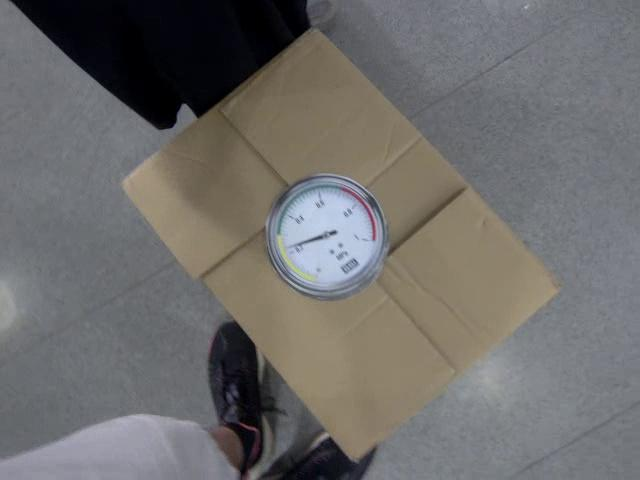Dashboard: (267, 171, 388, 305)
ssi: (338, 258, 360, 275)
